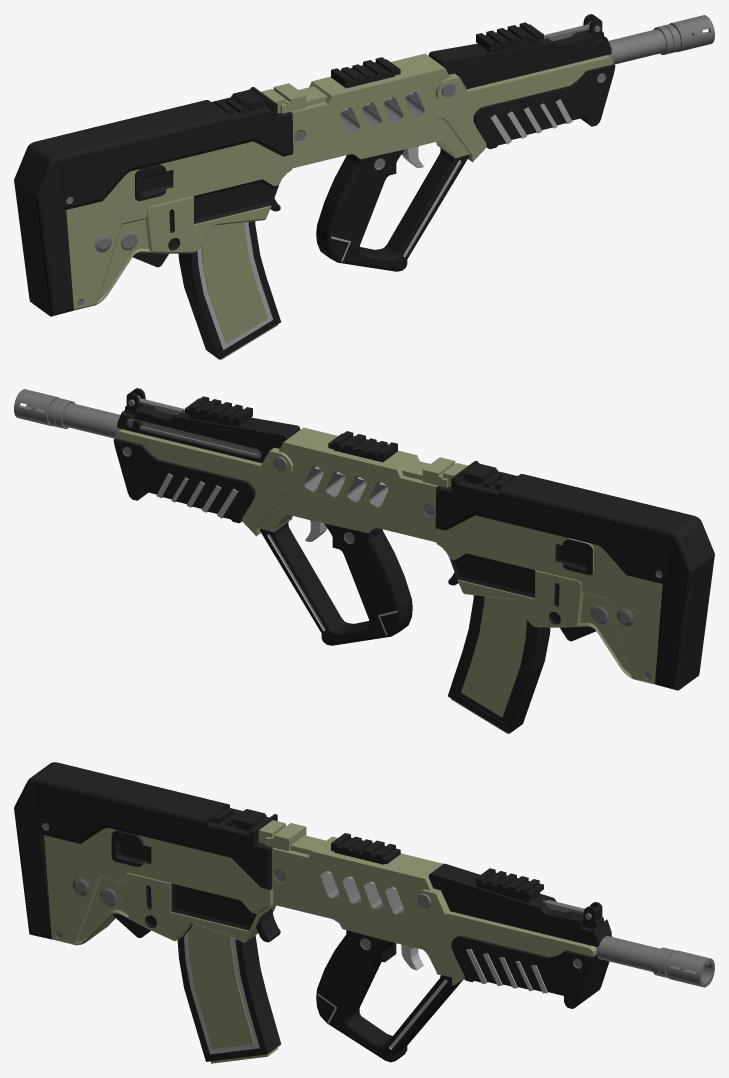
The model's file is prototype_rifle.fbx.
3 renders of one model, top to bottom at view 1: azimuth 30°, elevation 25°; view 2: azimuth 150°, elevation 25°; view 3: azimuth 330°, elevation 25°, orthographic.
Parts seen in each view (by area): view 1: Tar 21, Tar 21 Magazine; view 2: Tar 21, Tar 21 Magazine; view 3: Tar 21, Tar 21 Magazine.
Boxes of the visible parts, bbox=[...] form: Tar 21: bbox=[14, 14, 714, 316]; Tar 21 Magazine: bbox=[178, 221, 280, 359]; Tar 21: bbox=[14, 388, 714, 690]; Tar 21 Magazine: bbox=[448, 595, 550, 733]; Tar 21: bbox=[14, 762, 714, 1062]; Tar 21 Magazine: bbox=[177, 924, 281, 1063].
Bounding box in the file's own units: 202 × 71.35 × 13.38.
